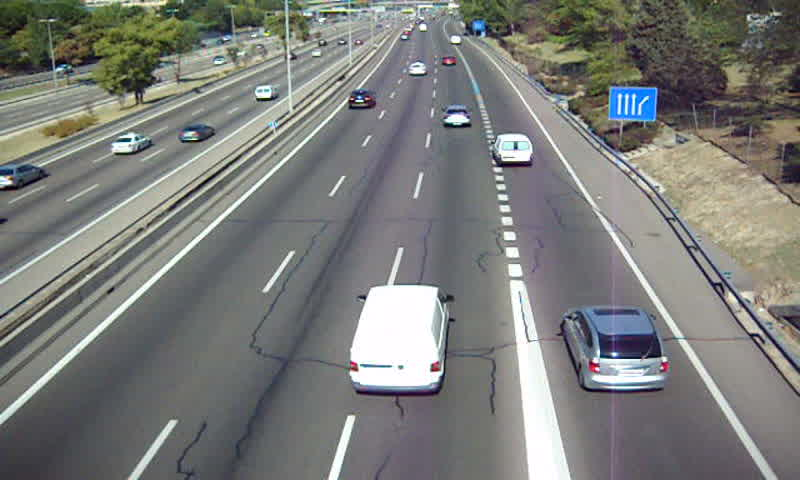car: (562, 306, 668, 391), (441, 104, 474, 128), (347, 89, 375, 110), (408, 61, 427, 77), (441, 55, 458, 67)
van: (349, 284, 449, 396), (493, 133, 533, 166)
